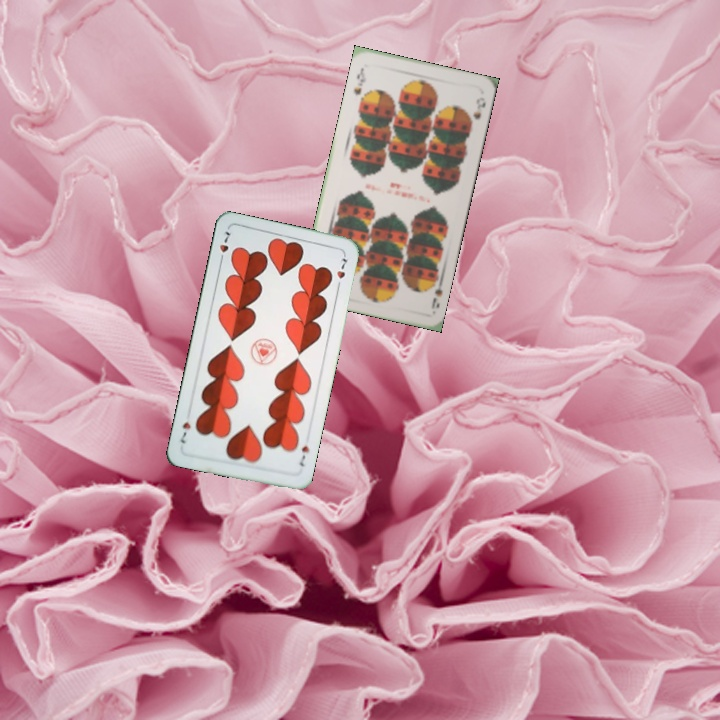H7: (215, 227, 233, 266), (295, 442, 312, 469)
S9: (426, 273, 446, 312), (350, 64, 368, 98)
